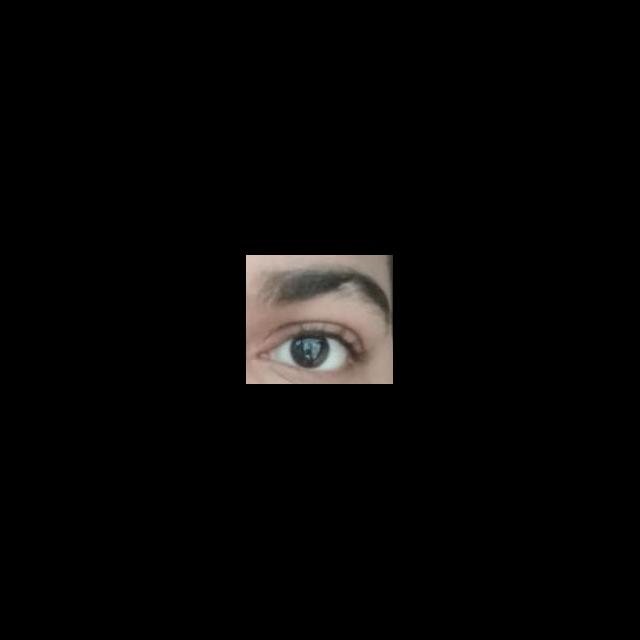eye: (272, 336, 349, 372)
iris: (291, 338, 330, 367)
